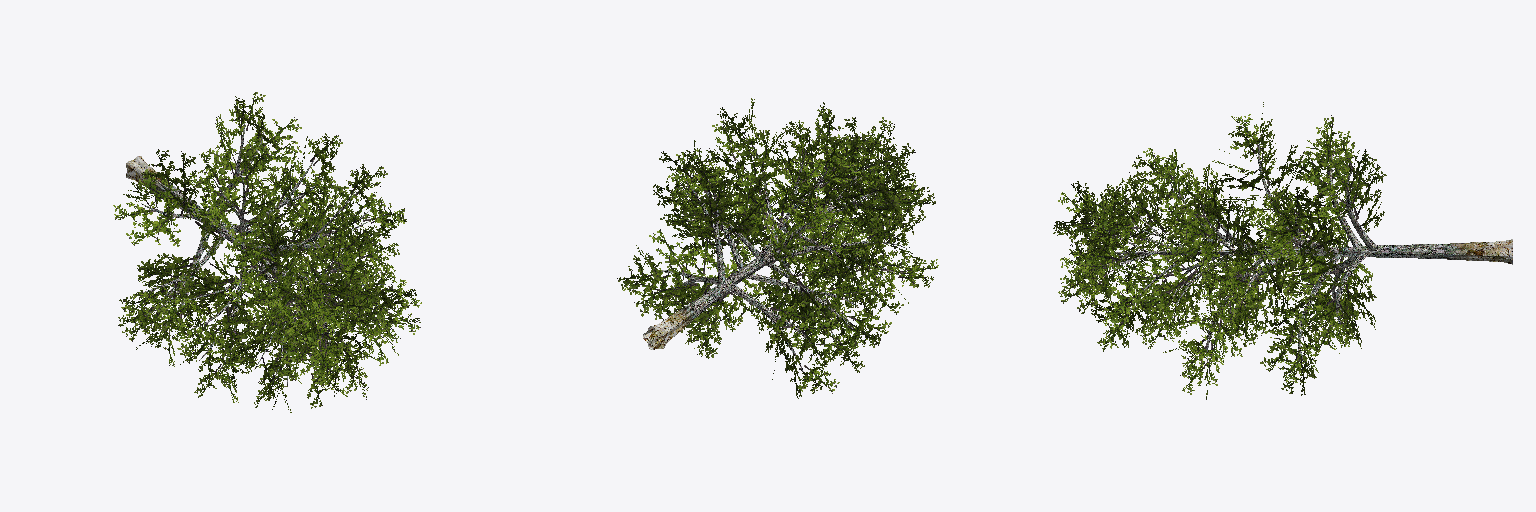
3 views of the same model, side by side, from view 1: azimuth 30°, elevation 25°; view 2: azimuth 150°, elevation 25°; view 3: azimuth 270°, elevation 25° (orthographic).
Parts seen in each view (by area): view 1: LowPolyTree_Default_OBJ_0, LowPolyTree.002_Default_OBJ.001_0; view 2: LowPolyTree_Default_OBJ_0, LowPolyTree.002_Default_OBJ.001_0; view 3: LowPolyTree_Default_OBJ_0, LowPolyTree.002_Default_OBJ.001_0.
Part boxes in pixels (x1,y1,x2,y2): LowPolyTree_Default_OBJ_0: (113, 92, 421, 412); LowPolyTree.002_Default_OBJ.001_0: (126, 123, 388, 386); LowPolyTree_Default_OBJ_0: (617, 98, 938, 398); LowPolyTree.002_Default_OBJ.001_0: (643, 133, 906, 373); LowPolyTree_Default_OBJ_0: (1053, 102, 1386, 399); LowPolyTree.002_Default_OBJ.001_0: (1090, 134, 1512, 362).
Size of the model in its own units: 980 by 940 by 1457.
2 materials, 2 textured.